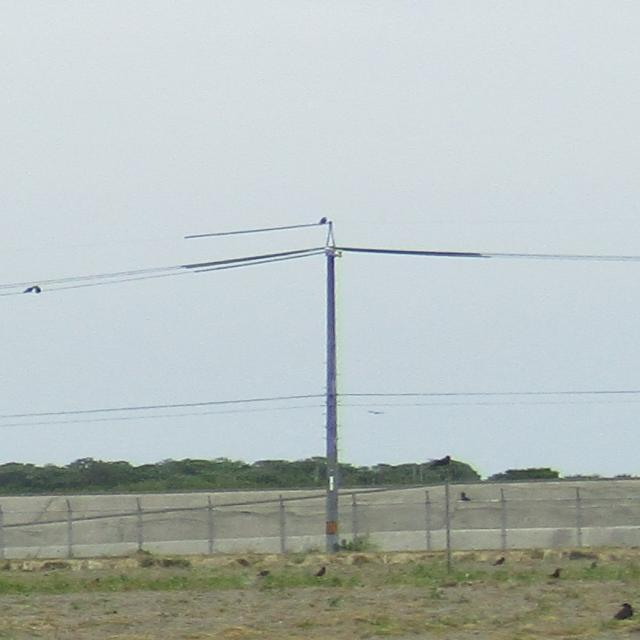pole: (289, 187, 386, 591)
